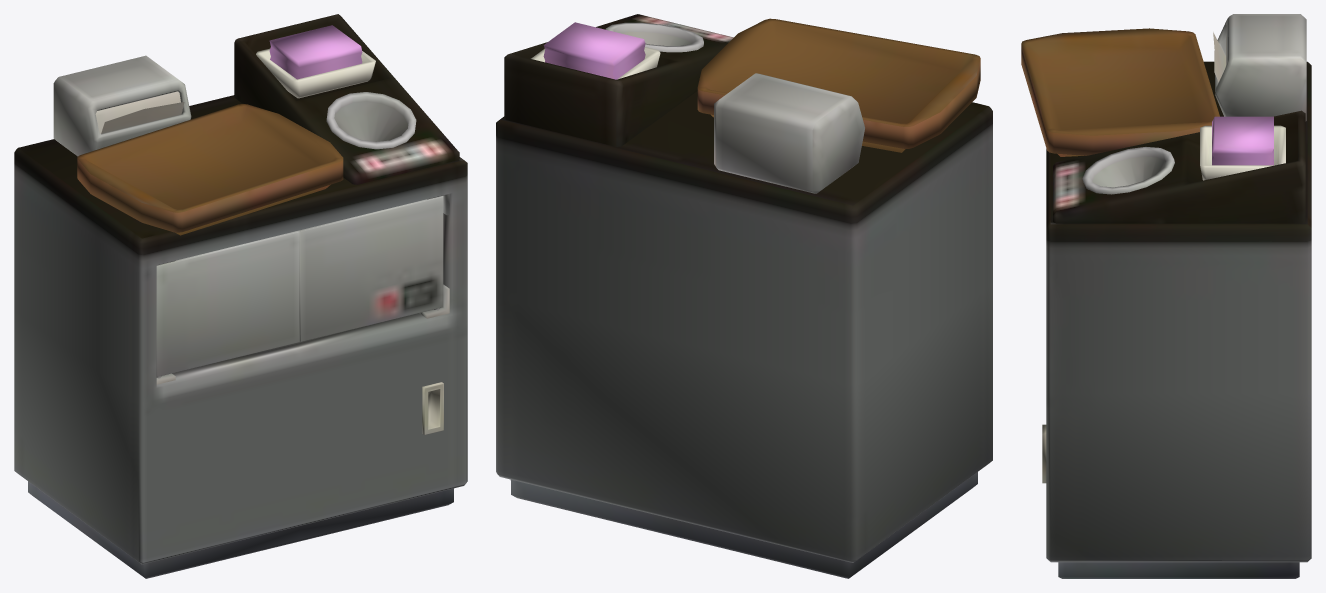
3 renders of one model, left to right at view 1: azimuth 30°, elevation 25°; view 2: azimuth 150°, elevation 25°; view 3: azimuth 270°, elevation 25°, orthographic. The views are drawn at different scales.
Size of the model in its own units: 9.93 by 11.85 by 7.32.
Materials: 1 (1 with a texture image).
